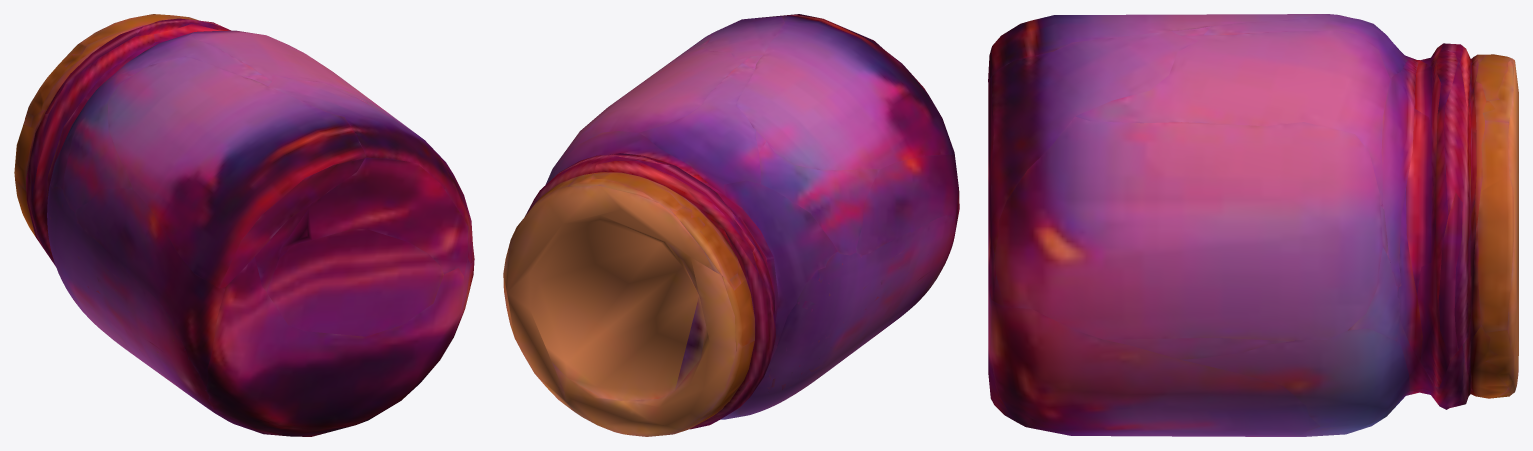
3 views of the same model, side by side, from view 1: azimuth 30°, elevation 25°; view 2: azimuth 150°, elevation 25°; view 3: azimuth 270°, elevation 25° (orthographic). The views are drawn at different scales.
Visible parts, largest first — view 1: material; view 2: material; view 3: material.
Part boxes in pixels (<box>): material: <box>14,14,474,436</box>; material: <box>503,14,959,436</box>; material: <box>988,14,1518,436</box>.
Size of the model in its own units: 0.7999 by 0.7978 by 1.
Materials: 1 (1 with a texture image).
